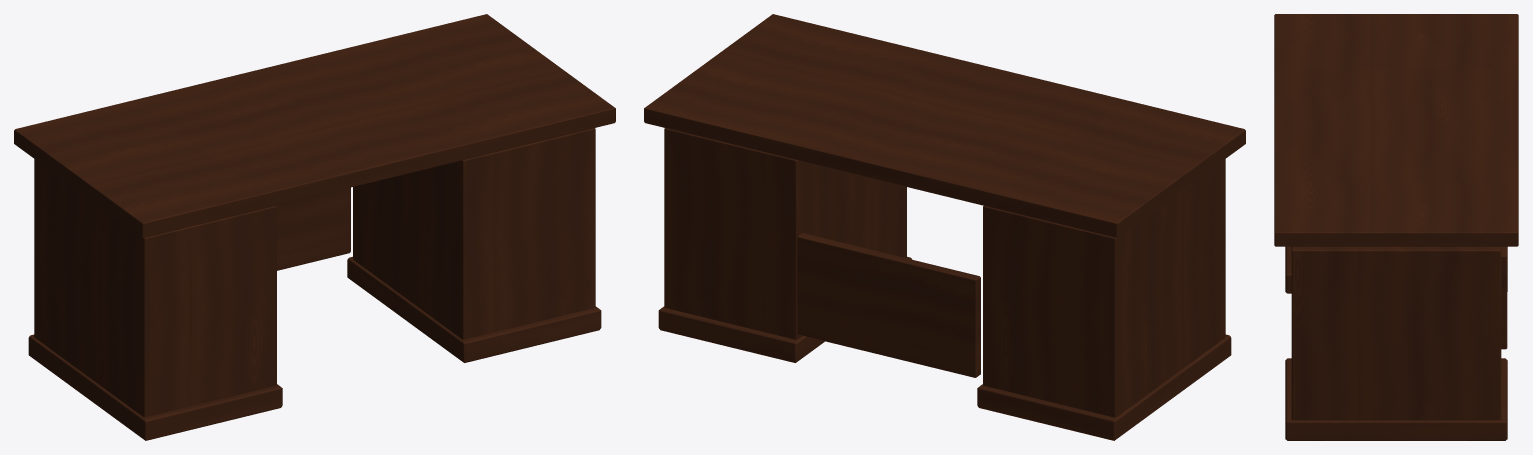
The model's file is desk_high_end_lod2.glb.
3 renders of one model, left to right at view 1: azimuth 30°, elevation 25°; view 2: azimuth 150°, elevation 25°; view 3: azimuth 270°, elevation 25°, orthographic. The views are drawn at different scales.
Parts seen in each view (by area): view 1: BATCH_Desk_HighEnd_LOD2_Desk_HighEnd_Body, BATCH_Desk_HighEnd_LOD2_Desk_HighEnd_Surface; view 2: BATCH_Desk_HighEnd_LOD2_Desk_HighEnd_Body, BATCH_Desk_HighEnd_LOD2_Desk_HighEnd_Surface; view 3: BATCH_Desk_HighEnd_LOD2_Desk_HighEnd_Surface, BATCH_Desk_HighEnd_LOD2_Desk_HighEnd_Body.
Part boxes in pixels (x1,y1,x2,y2): BATCH_Desk_HighEnd_LOD2_Desk_HighEnd_Body: (28,128,601,440); BATCH_Desk_HighEnd_LOD2_Desk_HighEnd_Surface: (14,14,615,237); BATCH_Desk_HighEnd_LOD2_Desk_HighEnd_Body: (658,128,1231,440); BATCH_Desk_HighEnd_LOD2_Desk_HighEnd_Surface: (644,14,1245,237); BATCH_Desk_HighEnd_LOD2_Desk_HighEnd_Surface: (1274,14,1518,246); BATCH_Desk_HighEnd_LOD2_Desk_HighEnd_Body: (1285,246,1507,440).
Bounding box in the file's own units: 1.74 × 0.79 × 0.82.
Materials: 2 (2 with a texture image).
